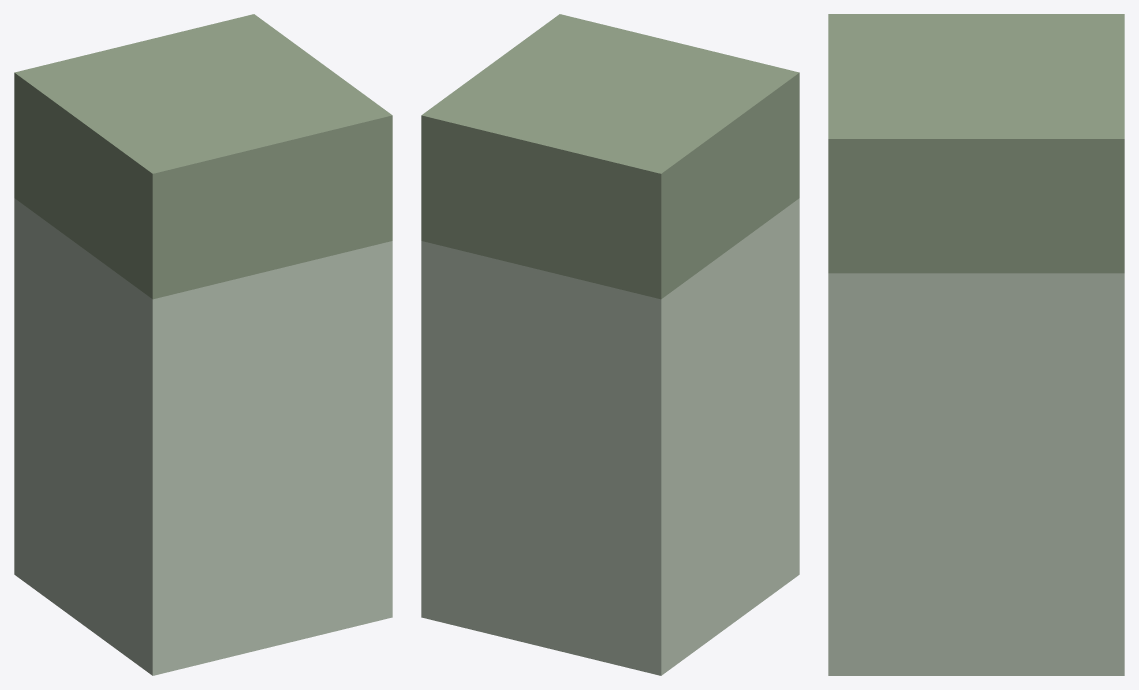
The model's file is Bunker - Free Sample-59-TeaBox_LightGreen-7.obj.
3 views of the same model, side by side, from view 1: azimuth 30°, elevation 25°; view 2: azimuth 150°, elevation 25°; view 3: azimuth 270°, elevation 25° (orthographic). The views are drawn at different scales.
Visible parts, largest first — view 1: TeaBox_LightGreen-7; view 2: TeaBox_LightGreen-7; view 3: TeaBox_LightGreen-7.
Part boxes in pixels (bbox=[...]): TeaBox_LightGreen-7: bbox=[14, 14, 392, 675]; TeaBox_LightGreen-7: bbox=[421, 14, 799, 675]; TeaBox_LightGreen-7: bbox=[828, 14, 1124, 675].
Bounding box in the file's own units: 0.04 × 0.08 × 0.04.
Materials: 1 (1 with a texture image).
